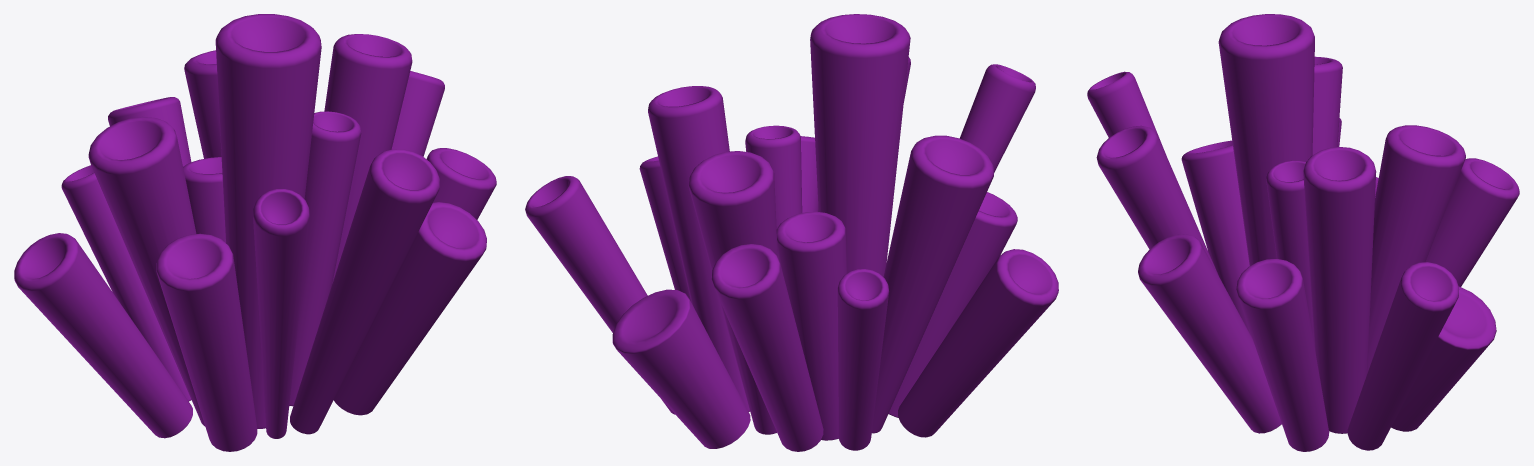
The model's file is coral.glb.
3 renders of one model, left to right at view 1: azimuth 30°, elevation 25°; view 2: azimuth 150°, elevation 25°; view 3: azimuth 270°, elevation 25°, orthographic. The views are drawn at different scales.
Parts seen in each view (by area): view 1: pCylinder35; view 2: pCylinder35; view 3: pCylinder35.
Boxes of the visible parts, x1=… form: pCylinder35: x1=14, y1=14, x2=496, y2=451; pCylinder35: x1=525, y1=14, x2=1058, y2=451; pCylinder35: x1=1087, y1=14, x2=1519, y2=451.
Size of the model in its own units: 0.1846 by 0.1461 by 0.1567.
